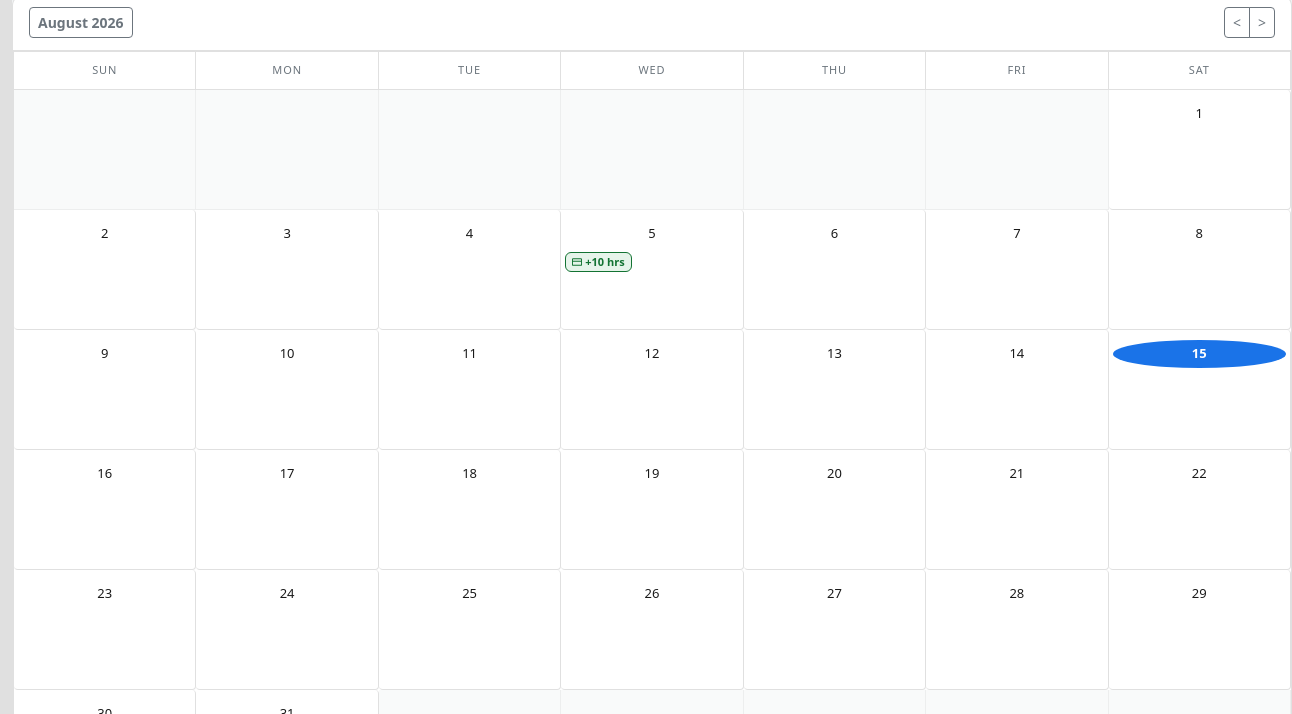
Test: SessionCalendar › navigates to the Credits page for that batch when the court-credit badge is clicked
Check: the button "August 2026" is shown, box top-left (29, 7), bottom-right (133, 38)
Click the button with aria-label "+10 court credit hours added" at point(599, 262), box top-left (565, 252), bottom-right (632, 272)
(page scrolled)
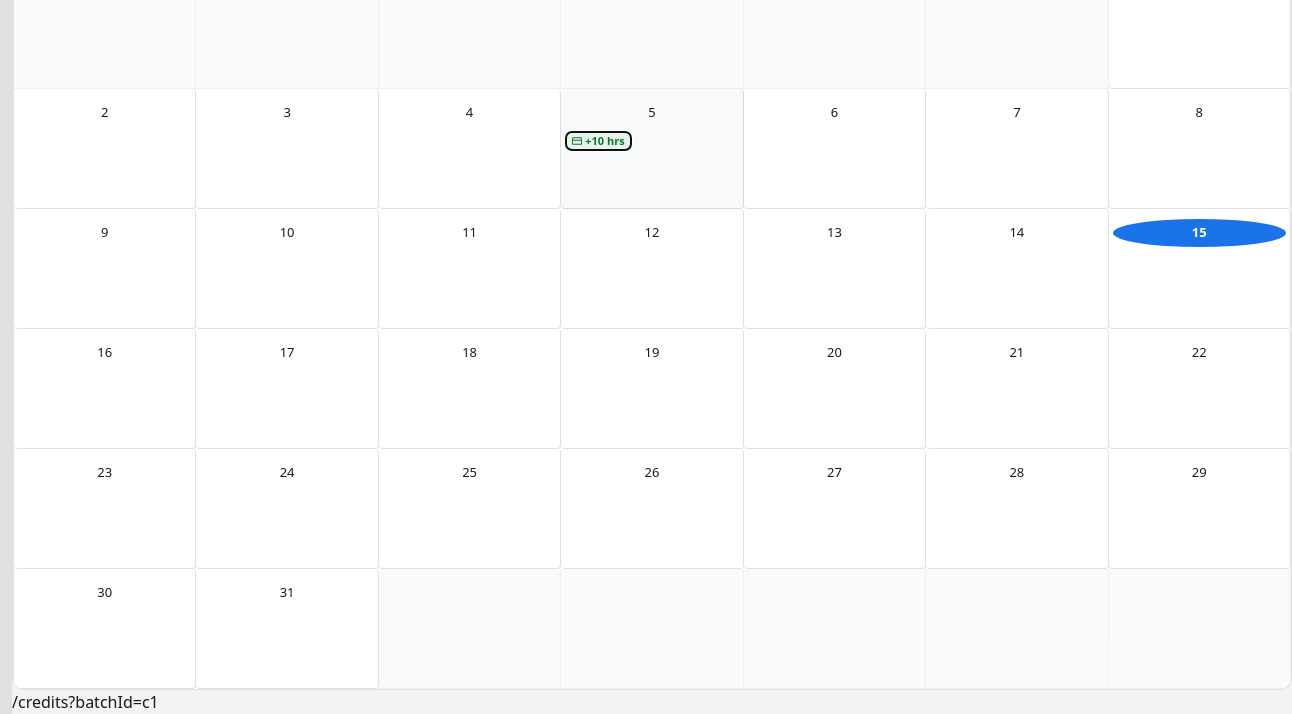
Check: the text with test id "location" reads "/credits?batchId=c1", box top-left (12, 690), bottom-right (159, 712)
